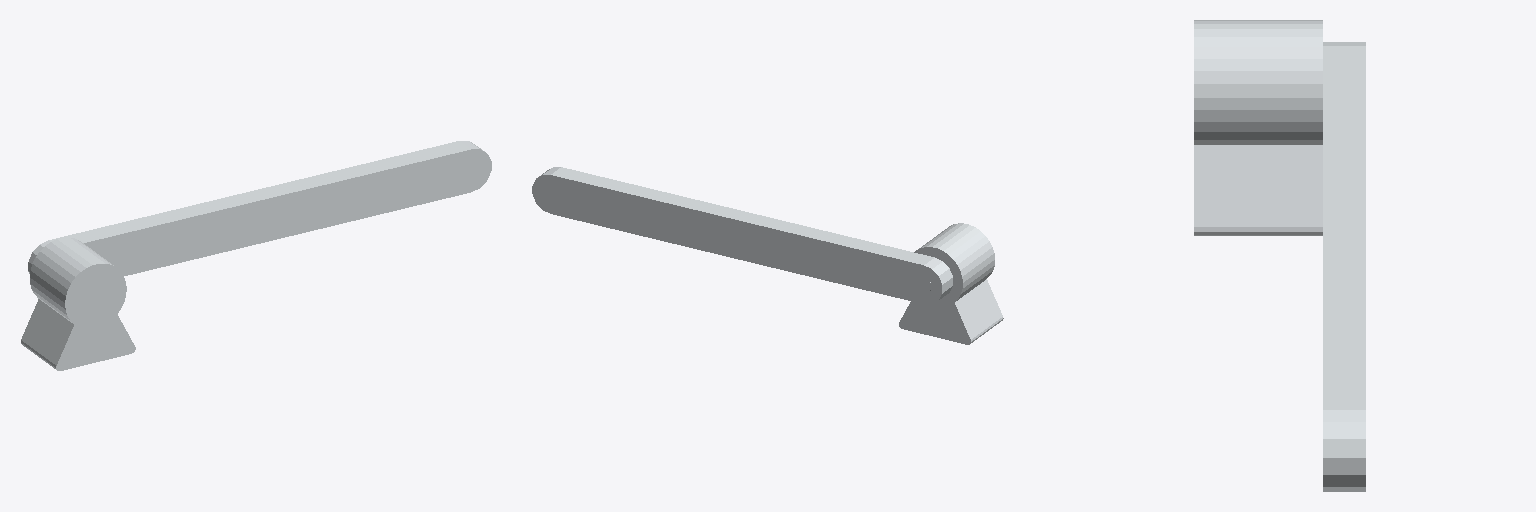
URDF robot description (Pendulum.SLDASM):
<?xml version="1.0" encoding="utf-8"?>
<!-- This URDF was automatically created by SolidWorks to URDF Exporter! Originally created by [author] ([email redacted]) 
     Commit Version: 1.6.0-1-g15f4949  Build Version: 1.6.7594.29634
     For more information, please see http://wiki.ros.org/sw_urdf_exporter -->
<robot
  name="Pendulum.SLDASM">
  <link
    name="base_link">
    <inertial>
      <origin
        xyz="3.556E-19 -0.012369 -0.0049459"
        rpy="0 0 0" />
      <mass
        value="0.012955" />
      <inertia
        ixx="8.0476E-07"
        ixy="-5.2465E-23"
        ixz="7.5699E-23"
        iyy="7.8139E-07"
        iyz="-8.3906E-09"
        izz="4.9029E-07" />
    </inertial>
    <visual>
      <origin
        xyz="0 0 0"
        rpy="0 0 0" />
      <geometry>
        <mesh
          filename="package://Pendulum.SLDASM/meshes/base_link.STL" />
      </geometry>
      <material
        name="">
        <color
          rgba="0.89804 0.91765 0.92941 1" />
      </material>
    </visual>
    <collision>
      <origin
        xyz="0 0 0"
        rpy="0 0 0" />
      <geometry>
        <mesh
          filename="package://Pendulum.SLDASM/meshes/base_link.STL" />
      </geometry>
    </collision>
  </link>
  <link
    name="1_Link">
    <inertial>
      <origin
        xyz="0.050589 0 0.0025"
        rpy="0 0 0" />
      <mass
        value="0.014391" />
      <inertia
        ixx="1.4894E-07"
        ixy="0"
        ixz="0"
        iyy="1.3733E-05"
        iyz="0"
        izz="1.3822E-05" />
    </inertial>
    <visual>
      <origin
        xyz="0 0 0"
        rpy="0 0 0" />
      <geometry>
        <mesh
          filename="package://Pendulum.SLDASM/meshes/1_Link.STL" />
      </geometry>
      <material
        name="">
        <color
          rgba="0.89804 0.91765 0.92941 1" />
      </material>
    </visual>
    <collision>
      <origin
        xyz="0 0 0"
        rpy="0 0 0" />
      <geometry>
        <mesh
          filename="package://Pendulum.SLDASM/meshes/1_Link.STL" />
      </geometry>
    </collision>
  </link>
  <joint
    name="1_Joint"
    type="revolute">
    <origin
      xyz="0 0 0"
      rpy="1.5708 0.0017782 0" />
    <parent
      link="base_link" />
    <child
      link="1_Link" />
    <axis
      xyz="0 0 1" />
    <limit
      lower="0"
      upper="0"
      effort="0"
      velocity="0" />
  </joint>
</robot>

--- What the picture shows (computed from the rendered views, not written in the file) ---
The picture shows the robot from 3 angles, left to right: view 1: azimuth 30°, elevation 25°; view 2: azimuth 150°, elevation 25°; view 3: azimuth 270°, elevation 25°; orthographic projection.
Model Pendulum.SLDASM with 2 links and 1 joints (1 revolute), rooted at base_link, posed all joints at 0.
Visible links, largest first — view 1: 1_Link, base_link; view 2: 1_Link, base_link; view 3: base_link, 1_Link.
Boxes of the visible links, x1=… form: 1_Link: x1=28, y1=141, x2=491, y2=275; base_link: x1=21, y1=237, x2=135, y2=370; 1_Link: x1=532, y1=167, x2=952, y2=304; base_link: x1=899, y1=223, x2=1003, y2=344; base_link: x1=1194, y1=20, x2=1322, y2=235; 1_Link: x1=1323, y1=42, x2=1365, y2=491.
Size in the robot's own frame: 0.1146 by 0.02 by 0.0228 metres.
2 mesh visuals loaded from 2 distinct referenced files (2 binary STL).